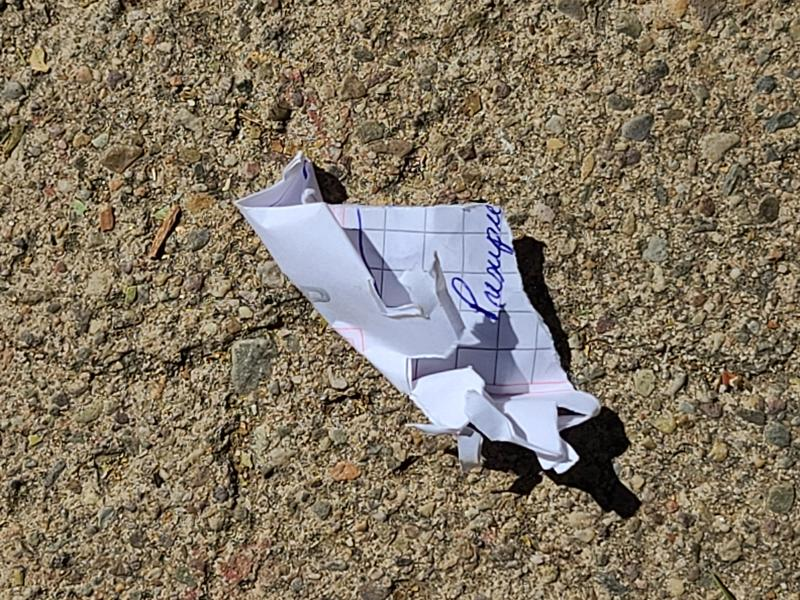papel: (233, 158, 605, 475)
